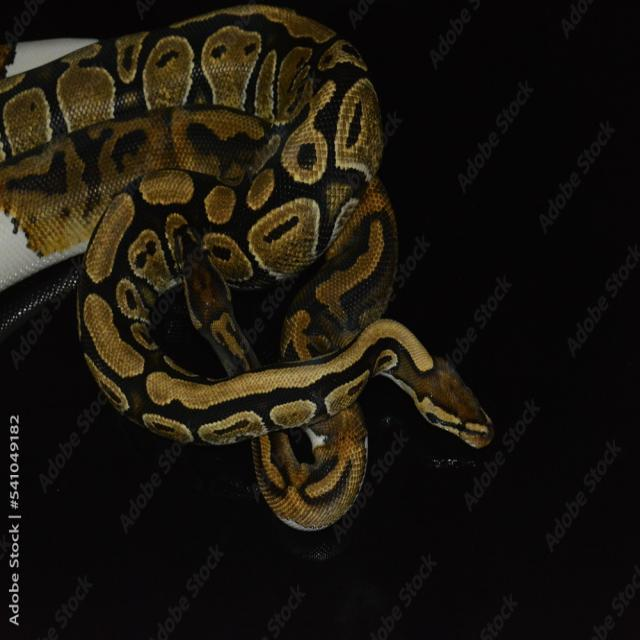Snake: (26, 0, 507, 545)
